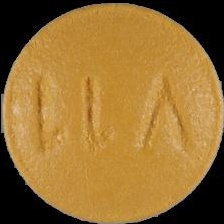68180-311: (0, 0, 224, 224)
